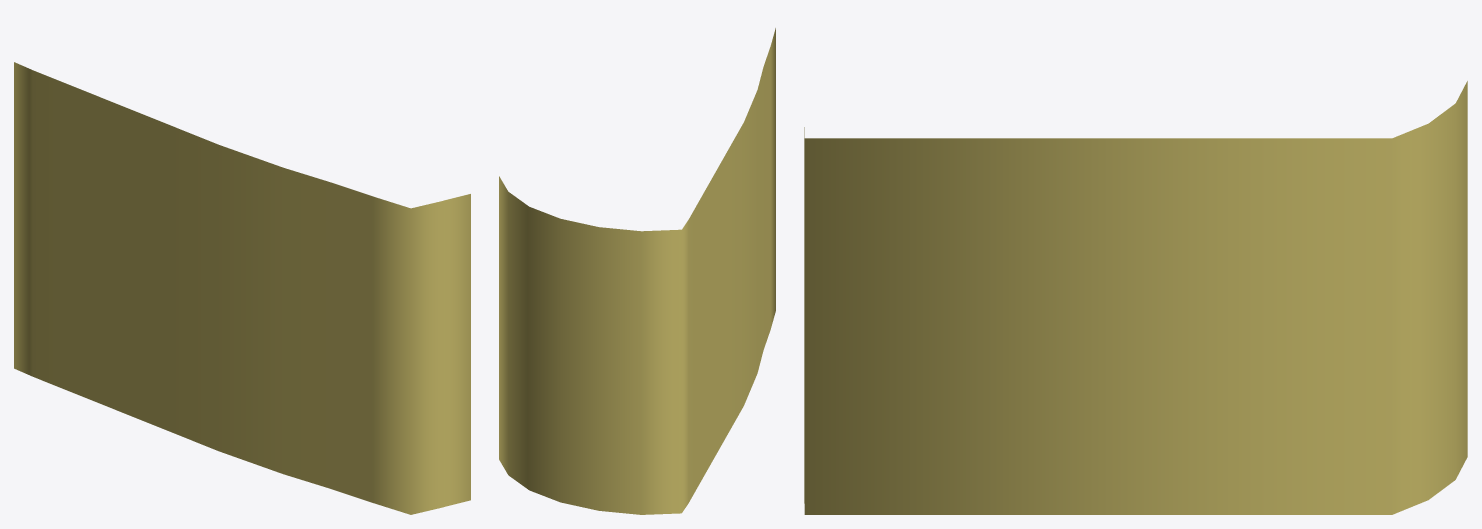
Rendered from gracile-fasciculus.glb.
3 renders of one model, left to right at view 1: azimuth 30°, elevation 25°; view 2: azimuth 150°, elevation 25°; view 3: azimuth 270°, elevation 25°, orthographic. The views are drawn at different scales.
Parts seen in each view (by area): view 1: Gracile fasciculus; view 2: Gracile fasciculus; view 3: Gracile fasciculus.
Part boxes in pixels (bbox=[...]): Gracile fasciculus: bbox=[14, 62, 470, 514]; Gracile fasciculus: bbox=[499, 28, 775, 514]; Gracile fasciculus: bbox=[804, 81, 1467, 514].
Bounding box in the file's own units: 0.00354 × 0.005 × 0.00798.
